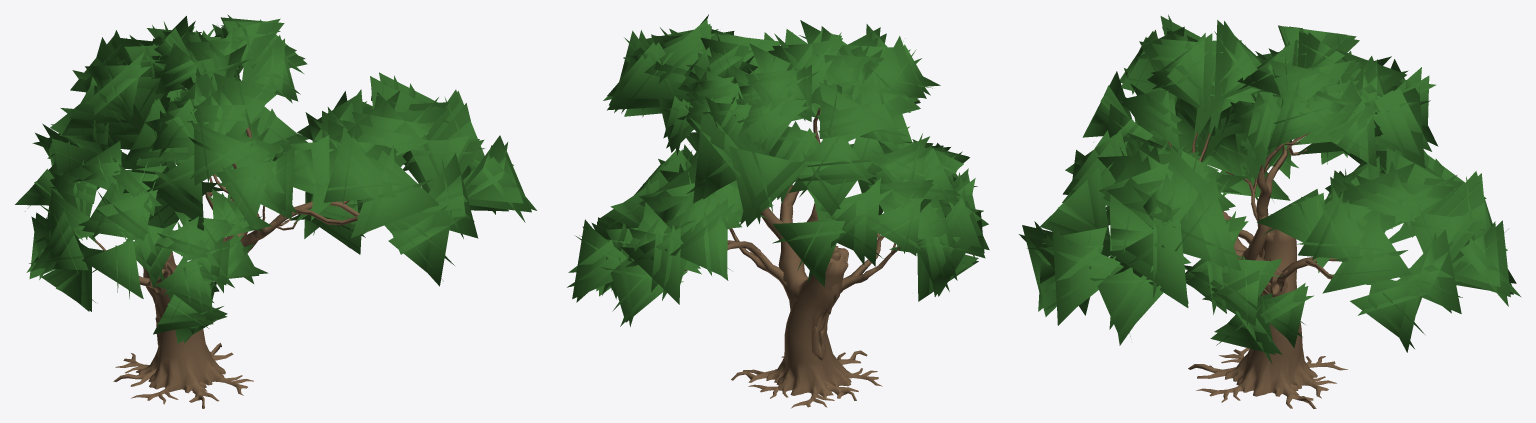
File: Scholar_B.obj
3 views of the same model, side by side, from view 1: azimuth 30°, elevation 25°; view 2: azimuth 150°, elevation 25°; view 3: azimuth 270°, elevation 25° (orthographic). The views are drawn at different scales.
Parts seen in each view (by area): view 1: Leaves, Trunk; view 2: Leaves, Trunk; view 3: Leaves, Trunk.
Boxes of the visible parts, bbox=[...] form: Leaves: bbox=[15, 14, 536, 343]; Trunk: bbox=[95, 127, 359, 408]; Leaves: bbox=[567, 14, 989, 326]; Trunk: bbox=[684, 107, 900, 408]; Leaves: bbox=[1019, 14, 1520, 363]; Trunk: bbox=[1168, 132, 1347, 408].
Size of the model in its own units: 61.41 by 47.02 by 59.88.
